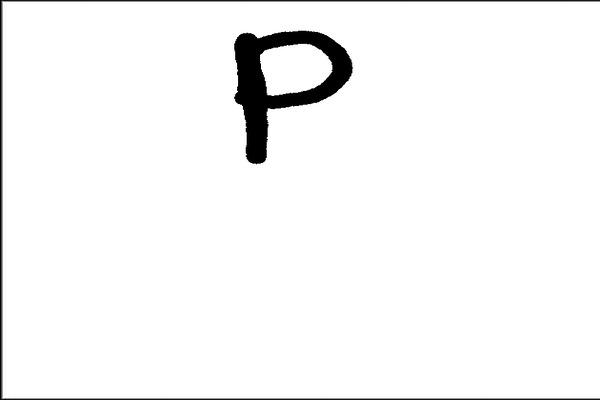P: (220, 22, 357, 175)
